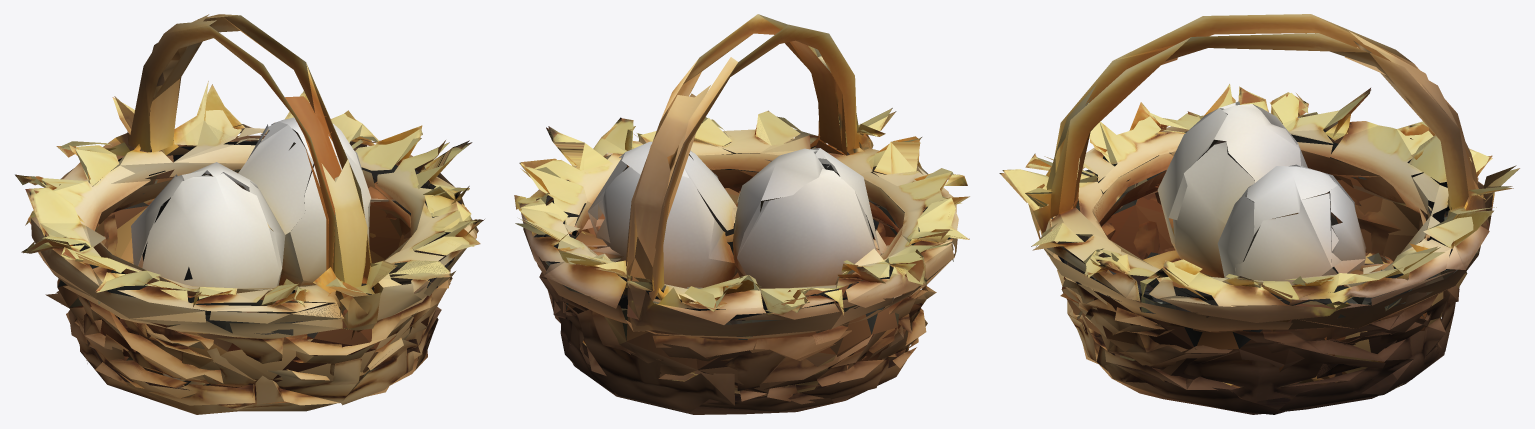
File: nest_basket.fbx
The picture shows the model from 3 angles, left to right: view 1: azimuth 30°, elevation 25°; view 2: azimuth 150°, elevation 25°; view 3: azimuth 270°, elevation 25°; orthographic projection. The views are drawn at different scales.
Visible parts, largest first — view 1: nest_basket; view 2: nest_basket; view 3: nest_basket.
Boxes of the visible parts, x1=… form: nest_basket: x1=15, y1=14, x2=484, y2=414; nest_basket: x1=514, y1=14, x2=969, y2=414; nest_basket: x1=999, y1=14, x2=1519, y2=414.
Size of the model in its own units: 0.6742 by 0.4755 by 0.7049.
1 material, 1 textured.
